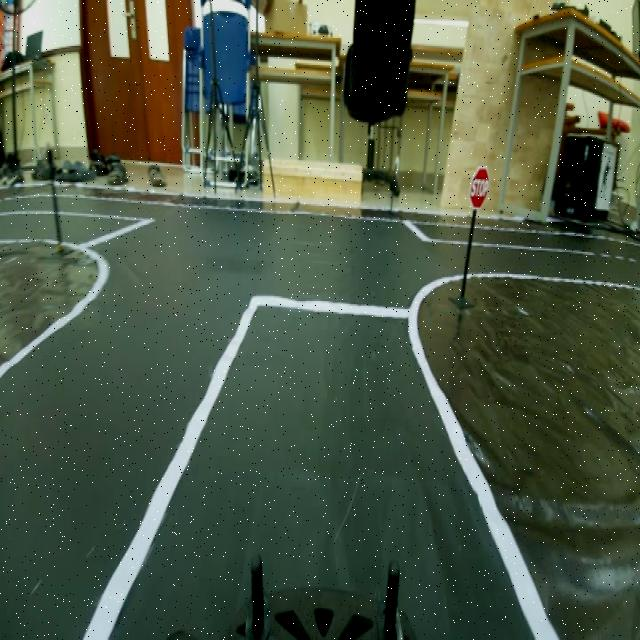stop: (466, 162, 493, 212)
